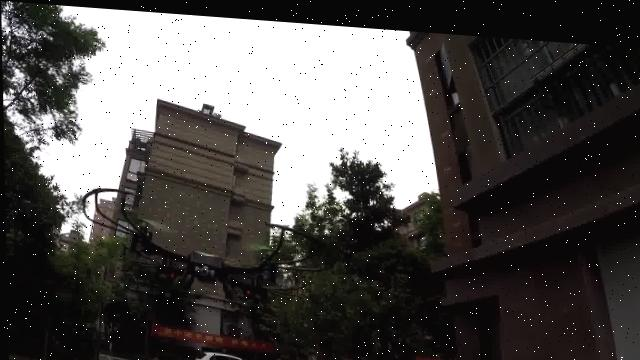drone: (69, 181, 317, 297)
